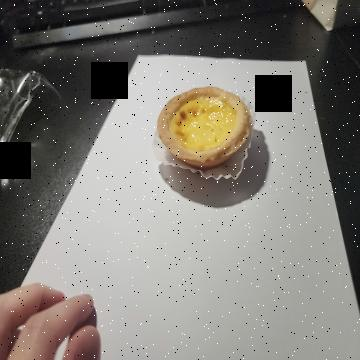EggTart: (157, 86, 250, 168)
